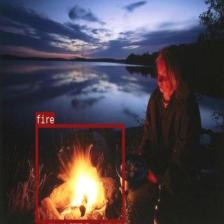fire: (36, 123, 124, 222)
